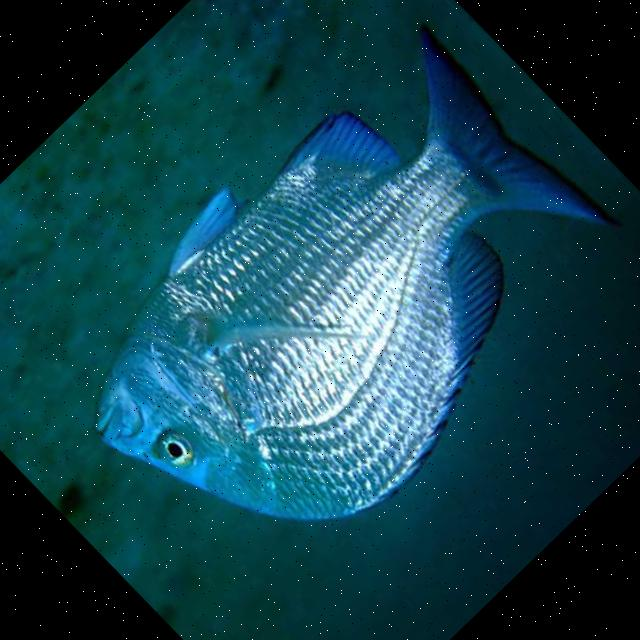ikan: (32, 3, 640, 617)
